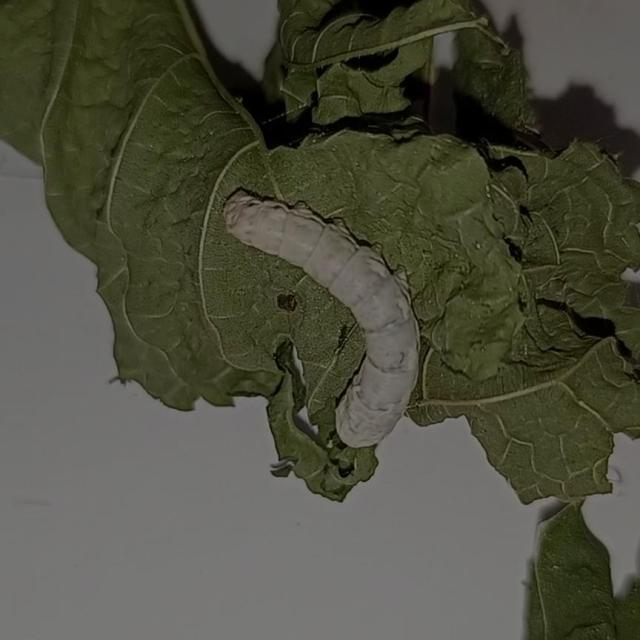Healthy: (215, 165, 454, 470)
